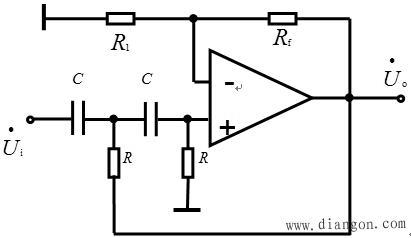amplifier: (203, 44, 317, 152)
cap1: (139, 96, 163, 141), (67, 96, 90, 140)
res1: (102, 9, 141, 29), (179, 144, 198, 183), (264, 9, 302, 28), (104, 144, 122, 183)
